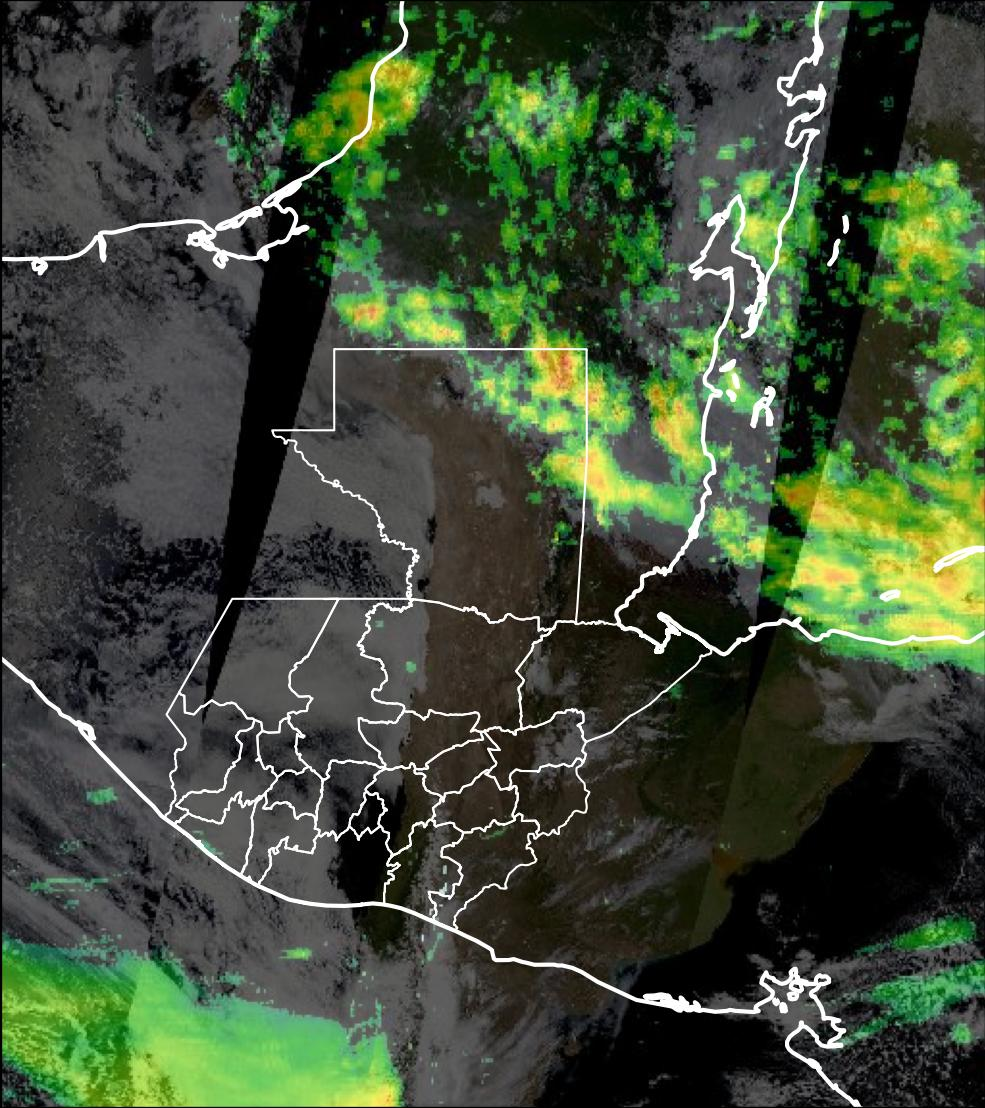precipitacion: (509, 347, 602, 422)
